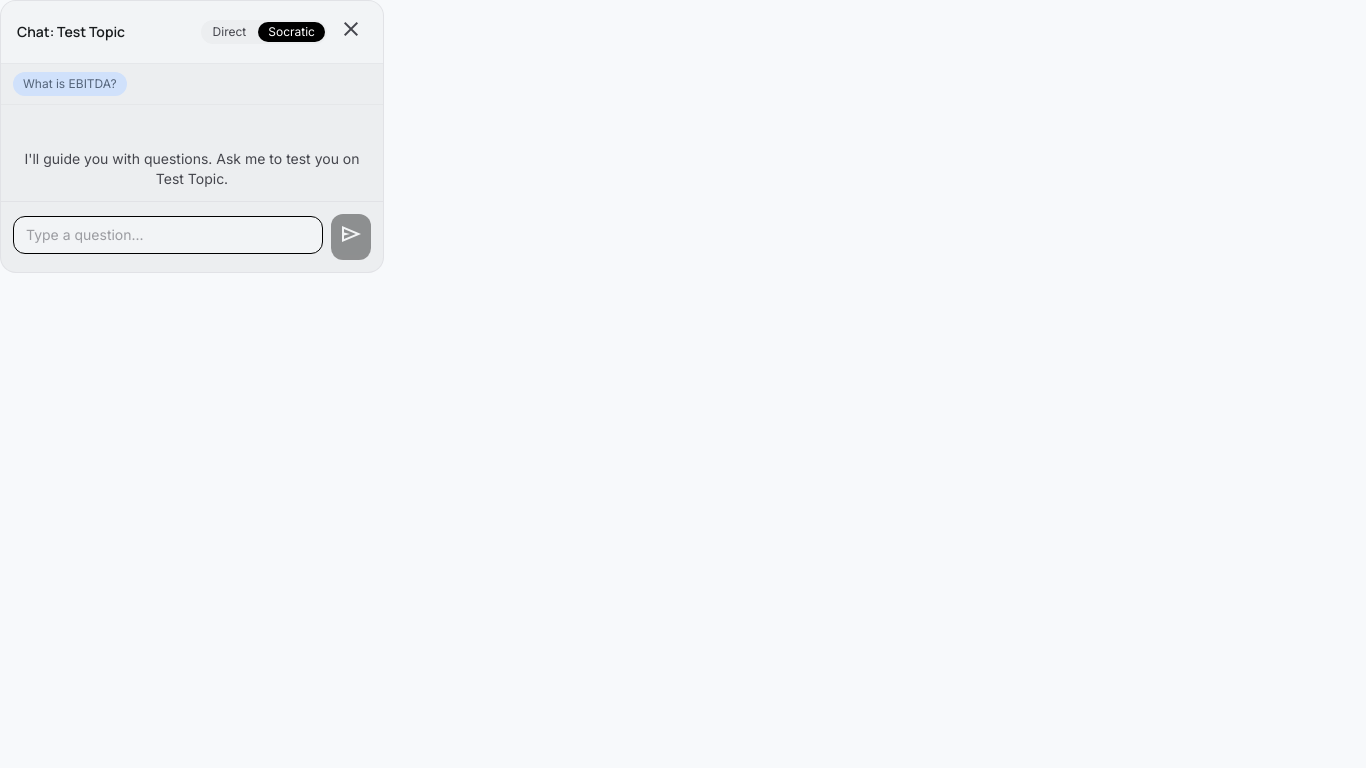
Test: ChatDrawer Advanced › handles SSE error event from server
Step 1. Type "Test" into the text box with placeholder "Type a question..." → (168, 235), box left=13, top=216, right=323, bottom=254
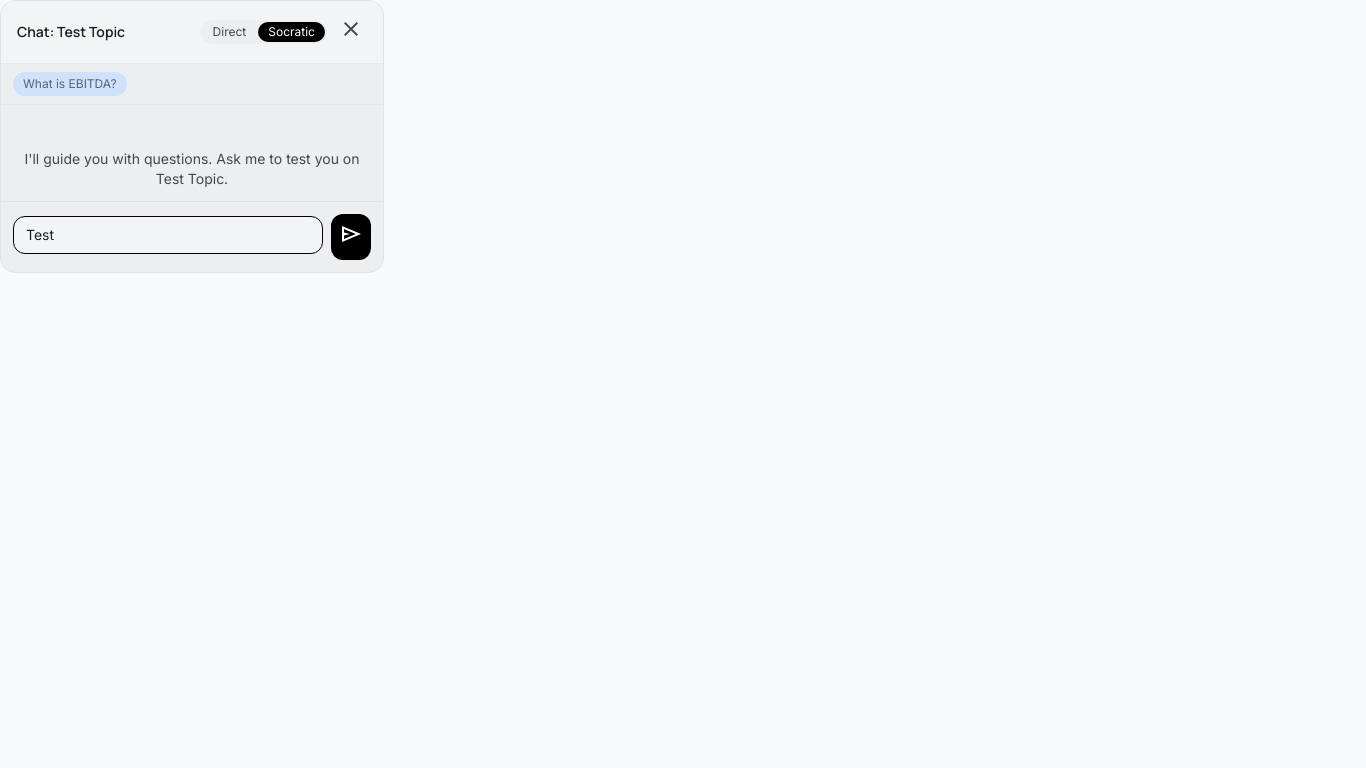
Step 2. Click the button titled "Send" → (351, 237), box left=331, top=214, right=371, bottom=260
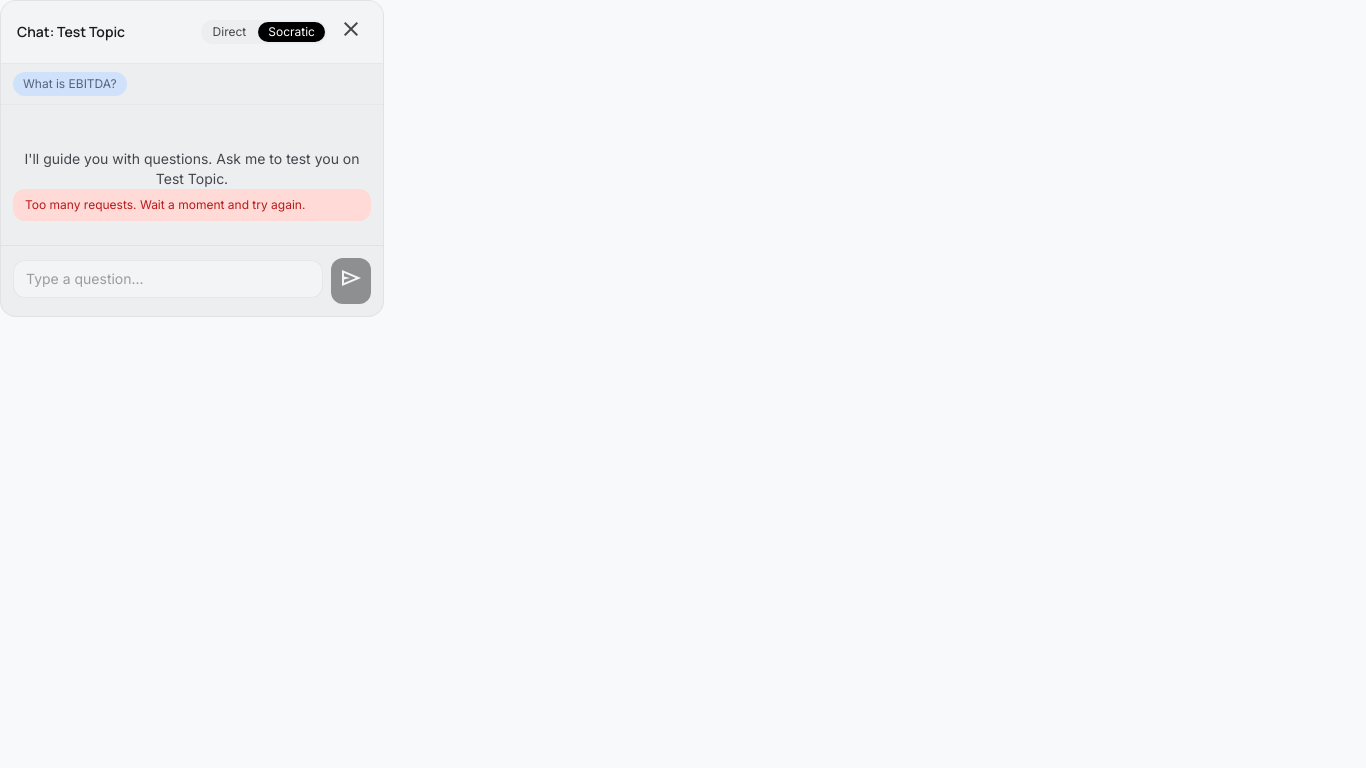
Now the text "Too many requests. Wait a moment and try again." is shown, box left=13, top=189, right=371, bottom=221
